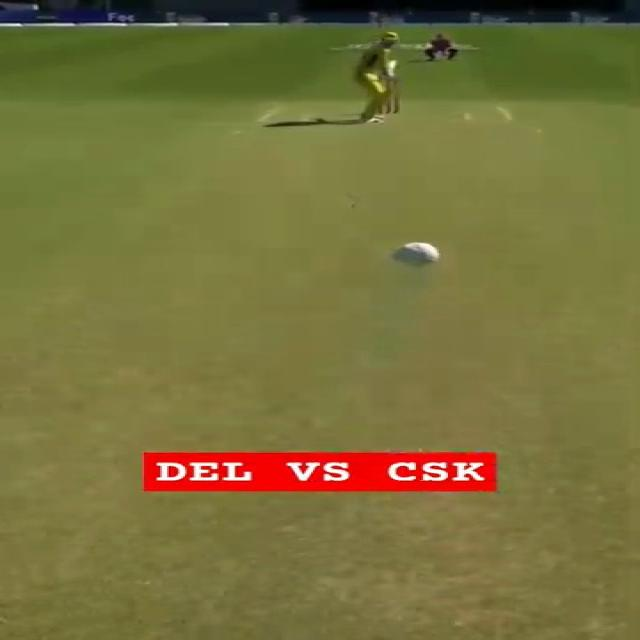ball: (384, 234, 452, 274)
